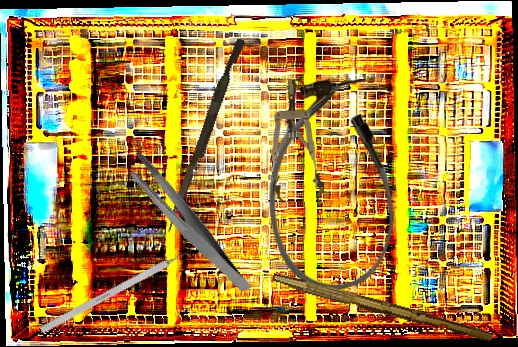Cannula: (269, 79, 395, 290)
Dressing Forceps: (123, 133, 252, 314)
Hook Surgical: (39, 244, 198, 334)
Pusher: (164, 36, 246, 236)
Scalpel Handle: (270, 272, 495, 344)
Speculum: (267, 78, 325, 205)
